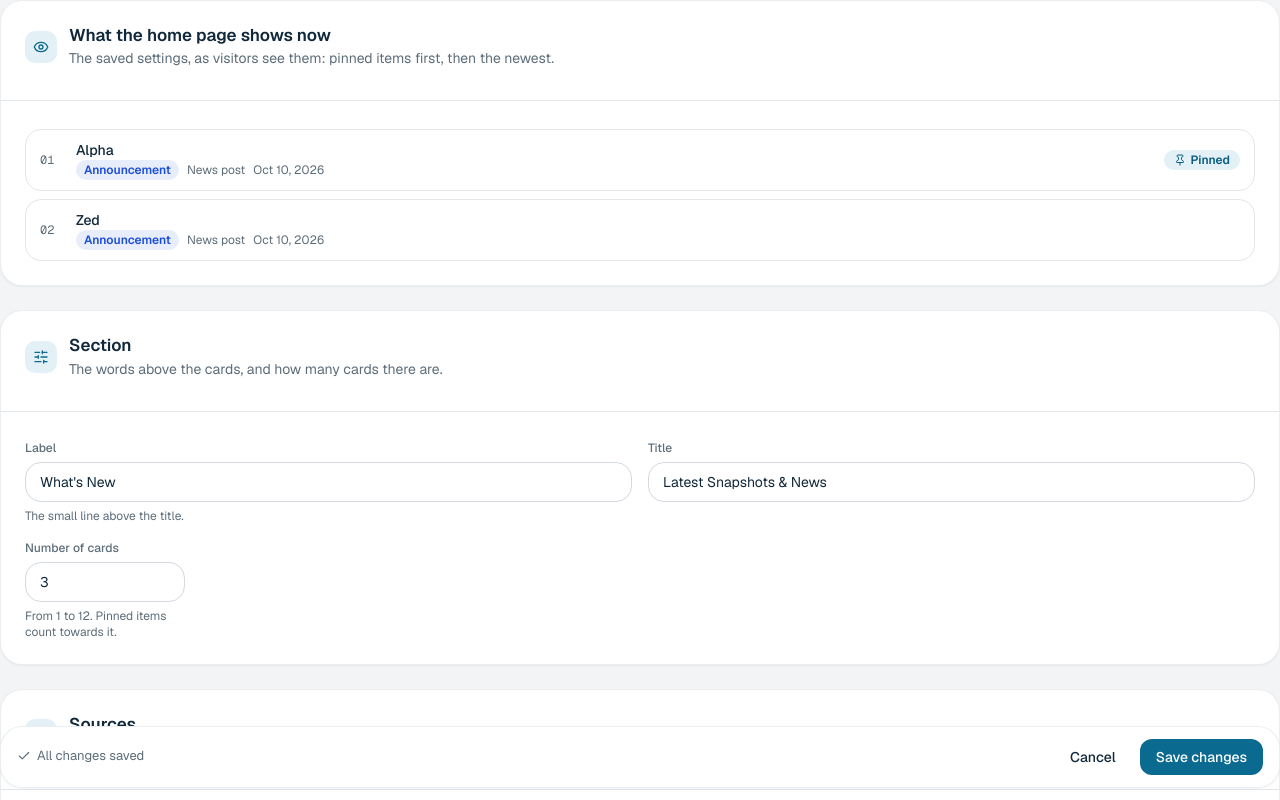
Test: the Latest updates page › shows the backend's refusal and keeps the form
Replace the text in the field labelled "Title" with "Changed" at point(952, 482), box x1=648 y1=462 x2=1255 y2=502
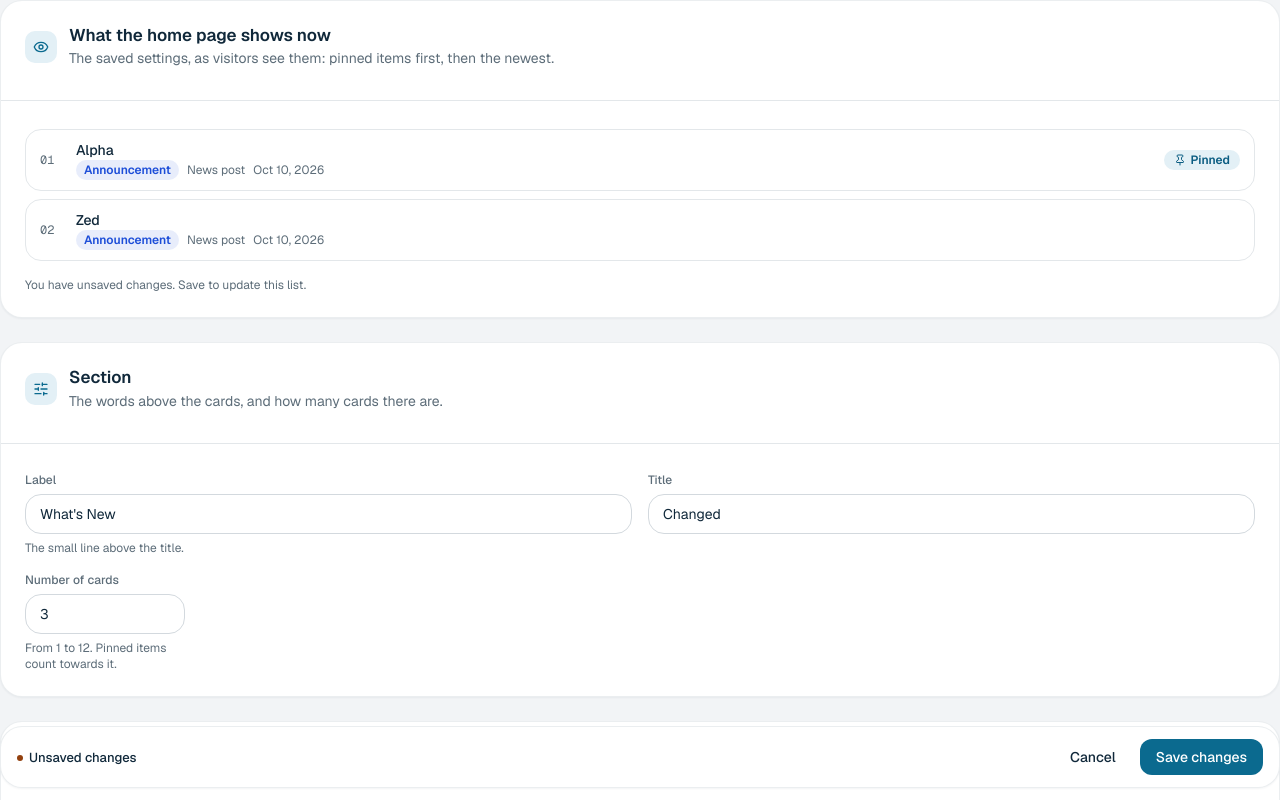
Click the button "Save changes".
click(1201, 757)  # box x1=1140 y1=739 x2=1263 y2=775
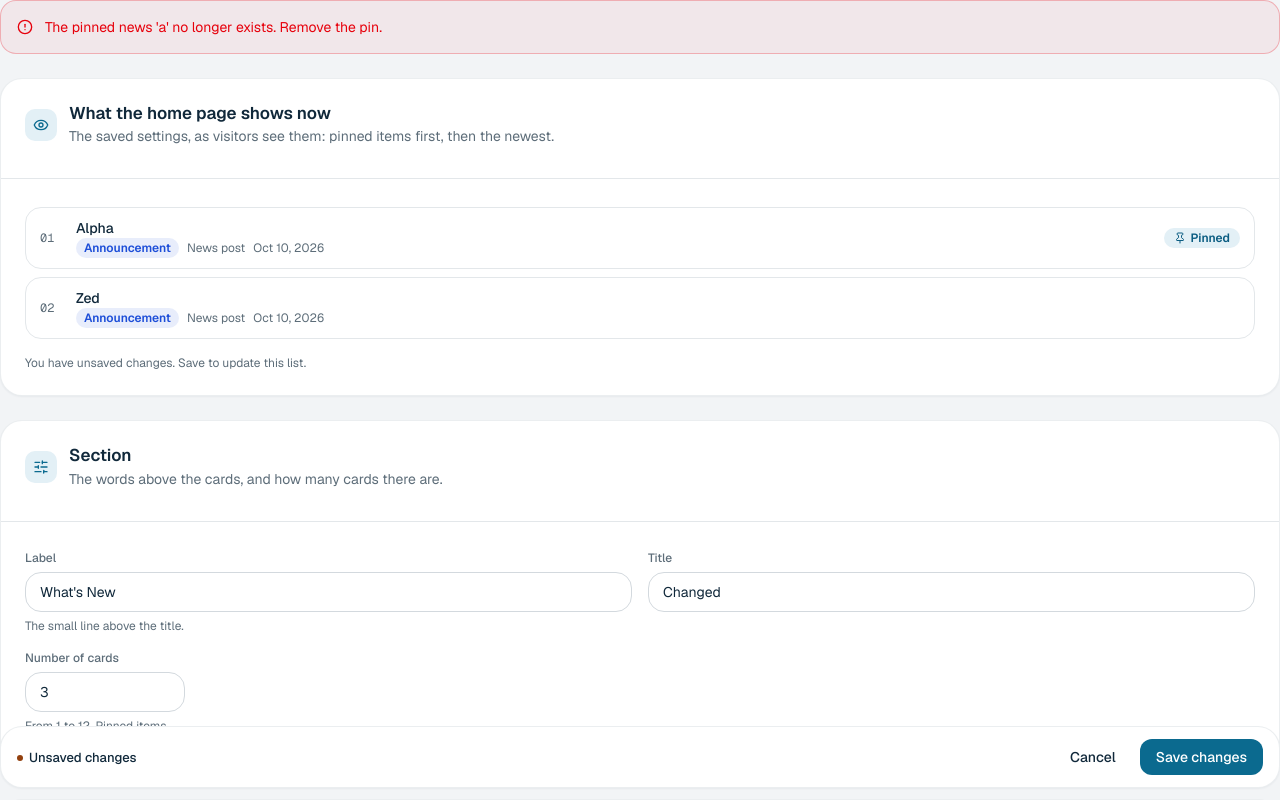
expect the text "The pinned news 'a' no longer exists. Remove the pin." is shown: met, box x1=45 y1=17 x2=382 y2=37
